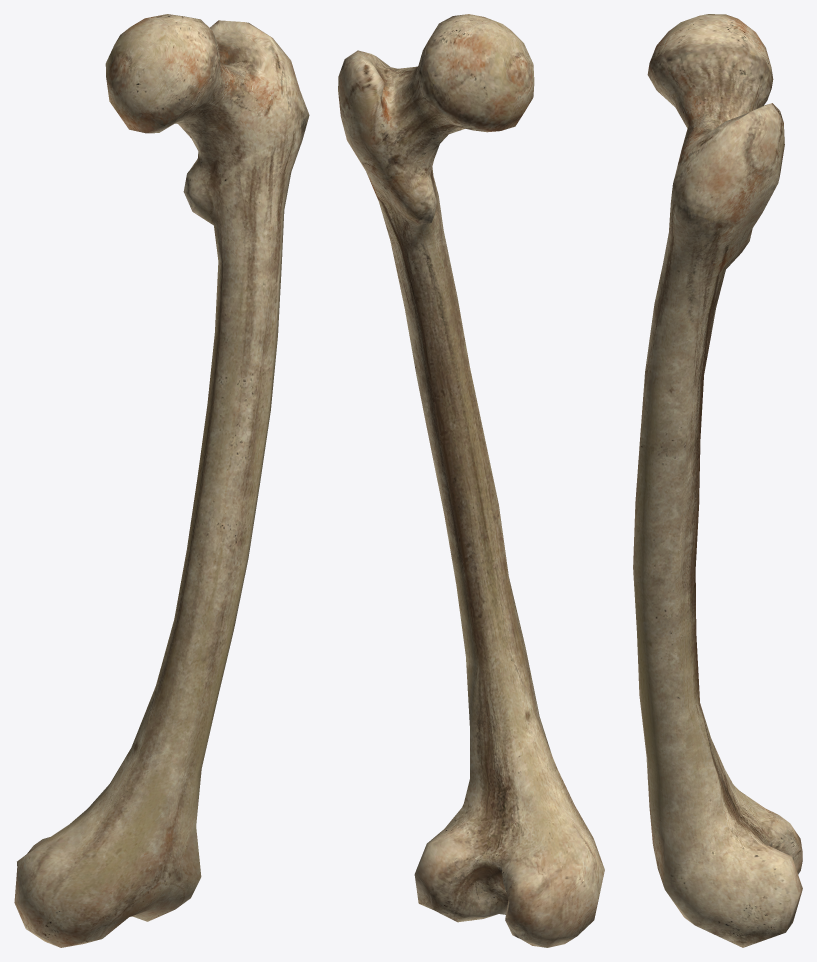
Rendered from bone_thigh.DAE.
3 views of the same model, side by side, from view 1: azimuth 30°, elevation 25°; view 2: azimuth 150°, elevation 25°; view 3: azimuth 270°, elevation 25° (orthographic). The views are drawn at different scales.
Visible parts, largest first — view 1: bone_thigh; view 2: bone_thigh; view 3: bone_thigh.
Boxes of the visible parts, x1=… form: bone_thigh: x1=14, y1=14, x2=309, y2=947; bone_thigh: x1=338, y1=14, x2=604, y2=947; bone_thigh: x1=633, y1=14, x2=802, y2=947.
Bounding box in the file's own units: 18.82 × 60.18 × 9.97.
